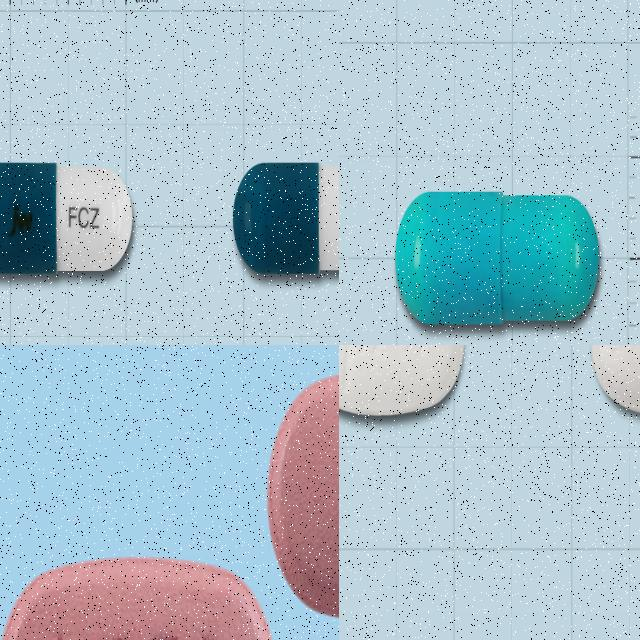Levoby - 500mg: (0, 554, 277, 640), (266, 364, 339, 621)
Oneflu Cap: (0, 160, 134, 276), (232, 162, 339, 276)
Triumeq Tab: (396, 188, 600, 324)
Zyvox Tab: (339, 345, 465, 415)
